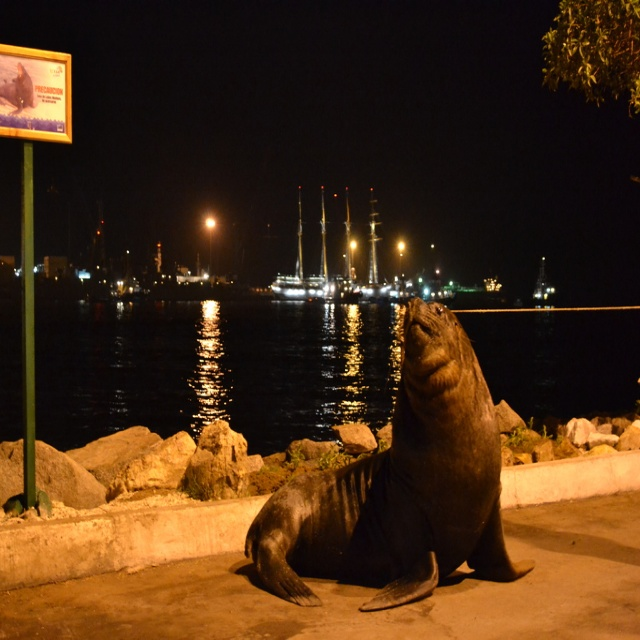Sea lion: (244, 294, 536, 611)
